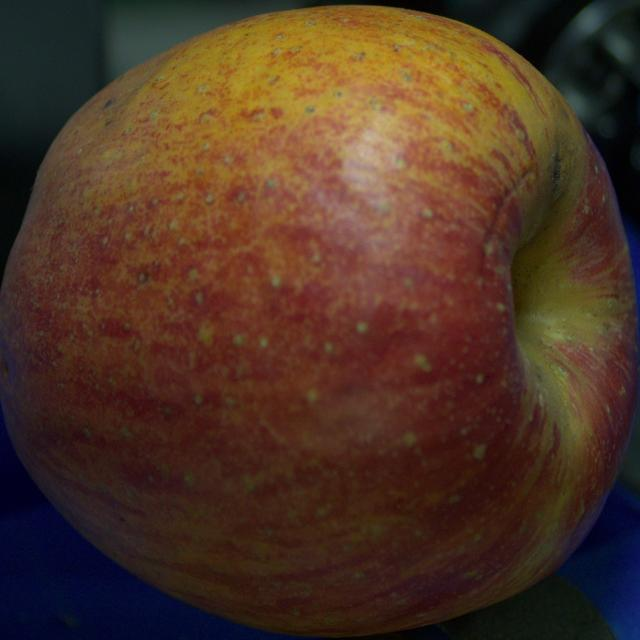apple: (1, 6, 639, 636)
pest: (552, 153, 562, 192)
scratch: (480, 165, 536, 285)
